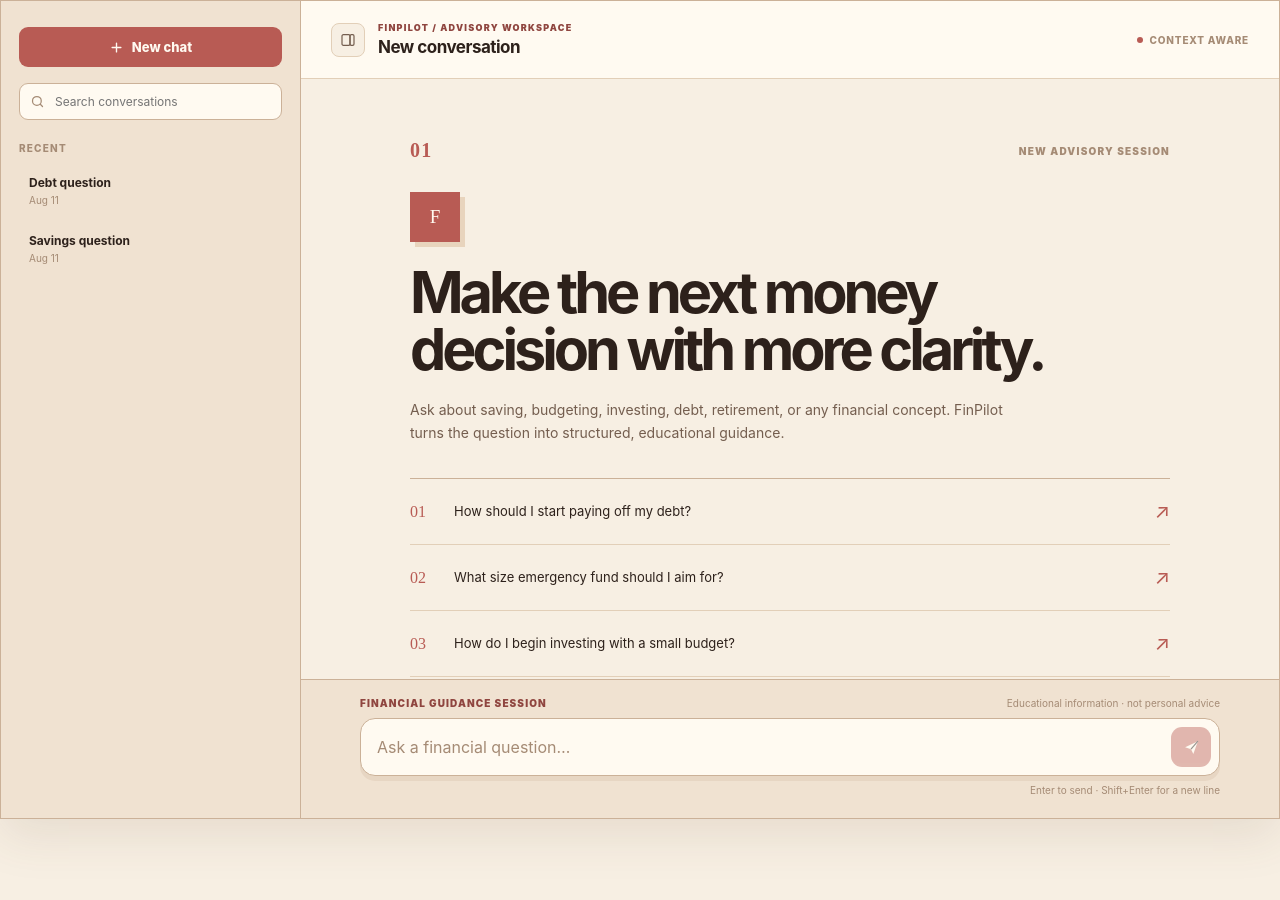
Test: ChatWindow › opens a saved conversation and loads its history
Click the button with class "conversation-item" showing "Savings question Aug 11".
click(80, 248)  # box [29,233,130,264]
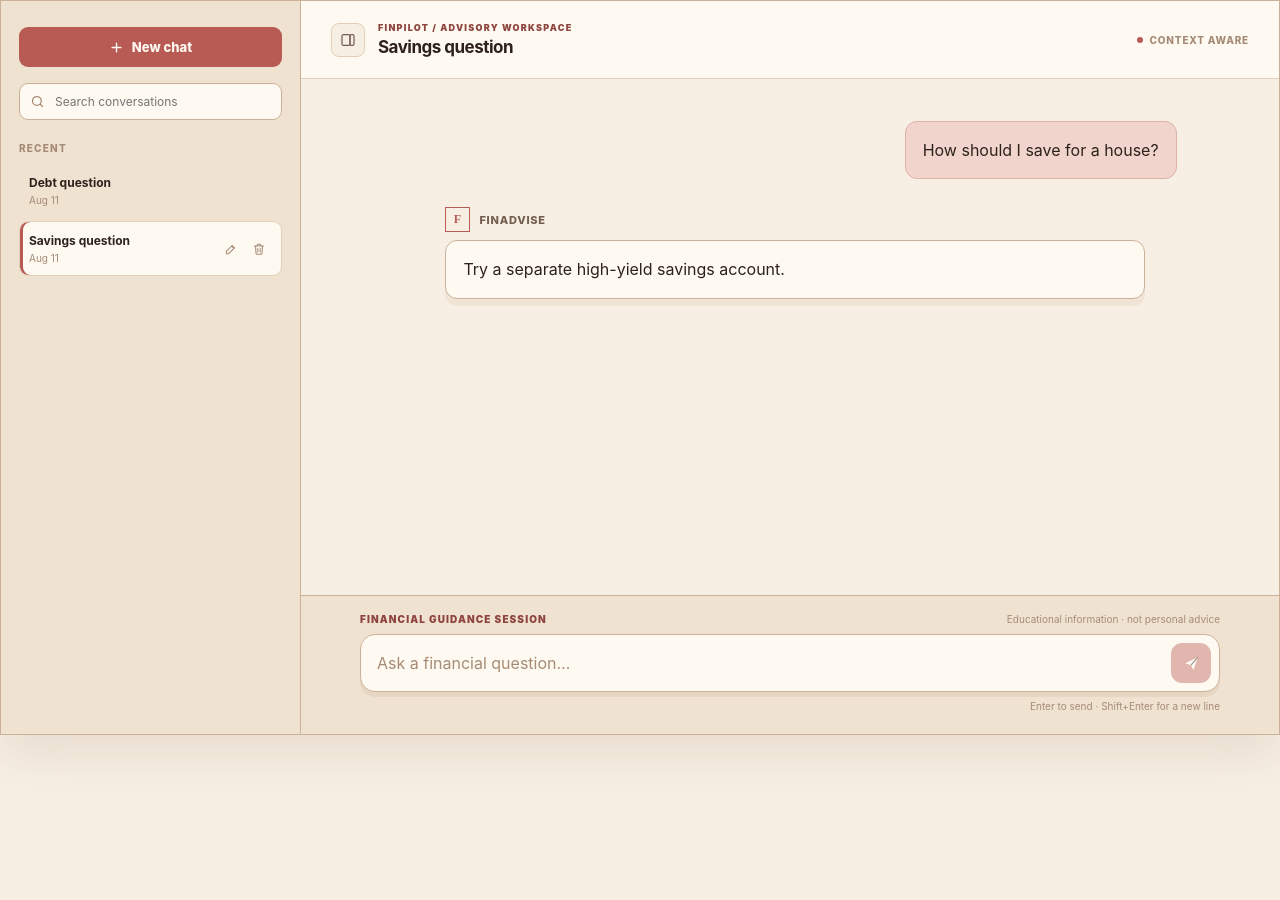
Expected: the button with class "conversation-item" shows "Savings question", [19,221,282,276]
Now the text "How should I save for a house?" is shown, box [923,137,1159,163]
Now the text "Try a separate high-yield savings account." is shown, box [463,259,785,279]
